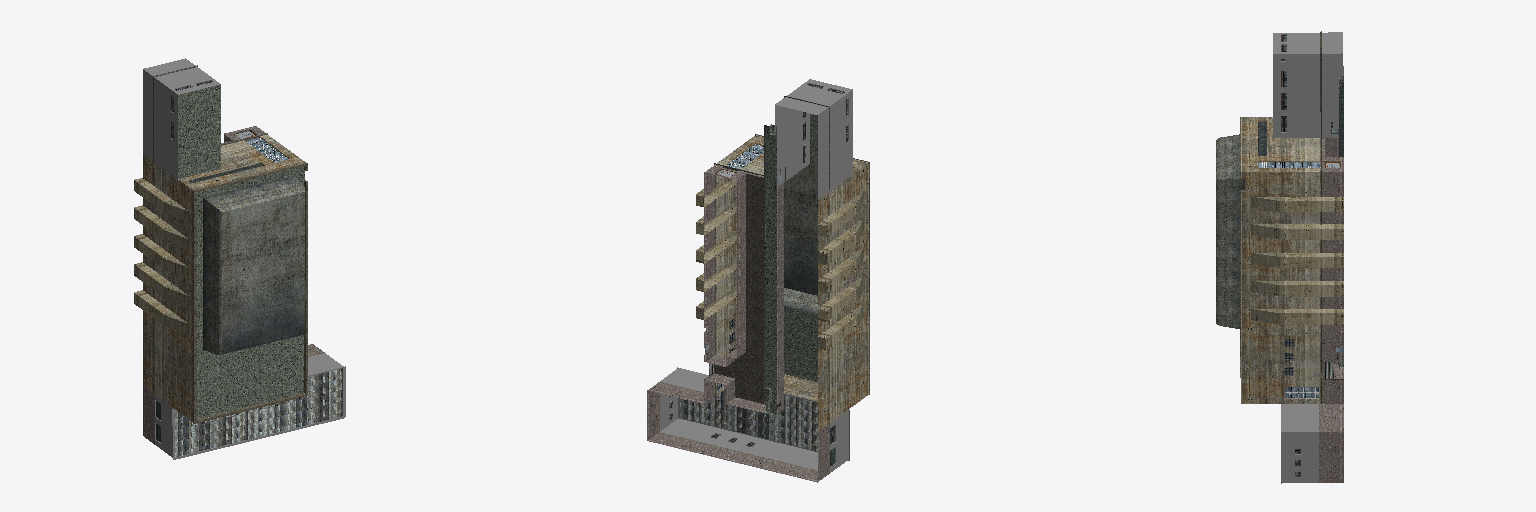
3 renders of one model, left to right at view 1: azimuth 30°, elevation 25°; view 2: azimuth 150°, elevation 25°; view 3: azimuth 270°, elevation 25°, orthographic.
Visible parts, largest first — view 1: MDL_Objec1; view 2: MDL_Objec1; view 3: MDL_Objec1.
Part boxes in pixels (bbox=[...]): MDL_Objec1: bbox=[134, 58, 345, 459]; MDL_Objec1: bbox=[647, 79, 869, 482]; MDL_Objec1: bbox=[1216, 31, 1343, 483].
Size of the model in its own units: 67.07 by 131 by 41.08.
16 materials, 15 textured.